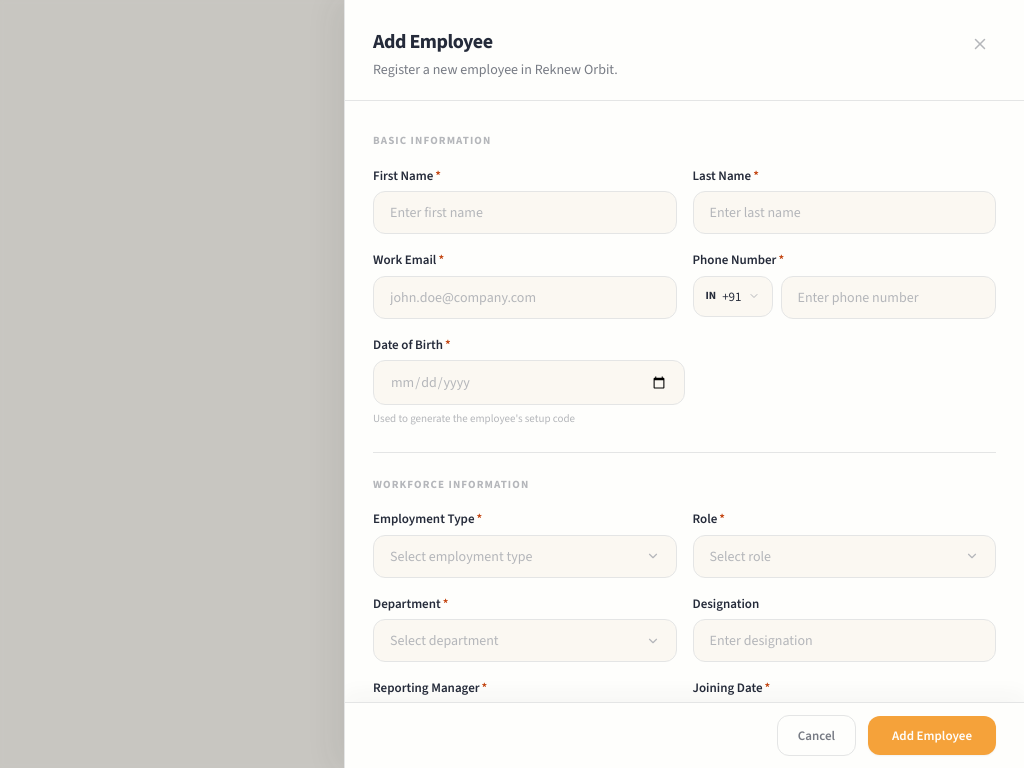
Test: Add Employee validation › shows every required validation, including custom dropdowns
This screenshot has width=1024, height=768.
Click the button "Add Employee".
click(932, 735)  # box [868,716,996,755]
(page scrolled)
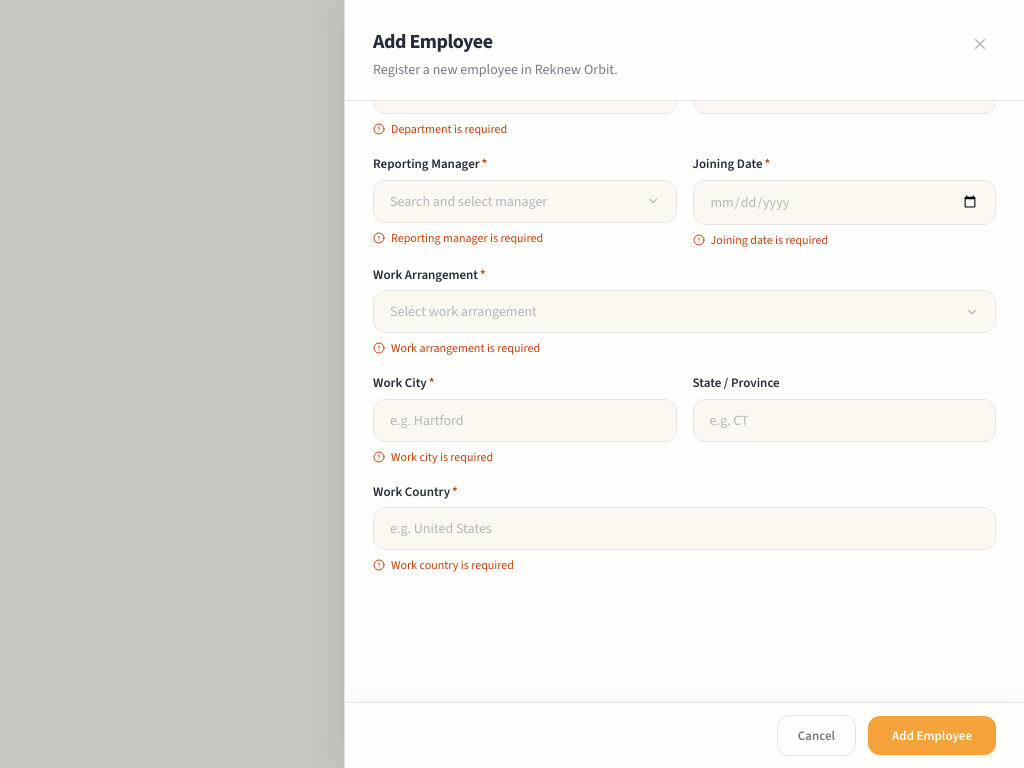
Result: the text "Department is required" is shown at [373,121,507,137]
Result: the text "Reporting manager is required" is shown at [373,230,543,246]
Result: the text "Joining date is required" is shown at [710,230,828,248]
